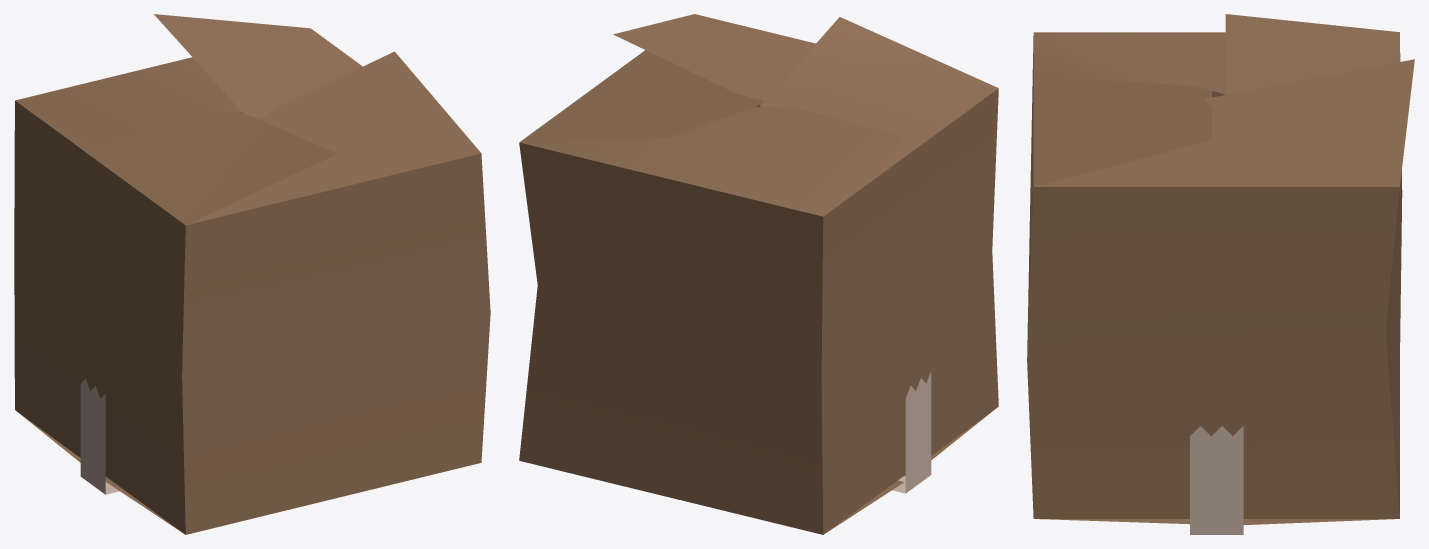
3 renders of one model, left to right at view 1: azimuth 30°, elevation 25°; view 2: azimuth 150°, elevation 25°; view 3: azimuth 270°, elevation 25°, orthographic. The views are drawn at different scales.
Visible parts, largest first — view 1: Cube, Cube.001; view 2: Cube, Cube.001; view 3: Cube, Cube.001.
Boxes of the visible parts, bbox=[...] form: Cube: bbox=[14, 14, 490, 534]; Cube.001: bbox=[80, 378, 119, 494]; Cube: bbox=[519, 14, 998, 534]; Cube.001: bbox=[892, 371, 931, 493]; Cube: bbox=[1027, 14, 1414, 524]; Cube.001: bbox=[1190, 426, 1243, 534].
Size of the model in its own units: 2.1 by 2.37 by 2.12.
